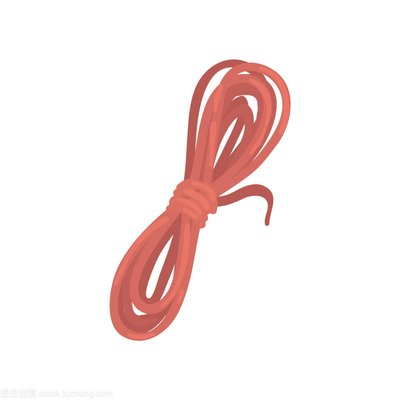9/可回收垃圾/绳子: (108, 59, 292, 341)
